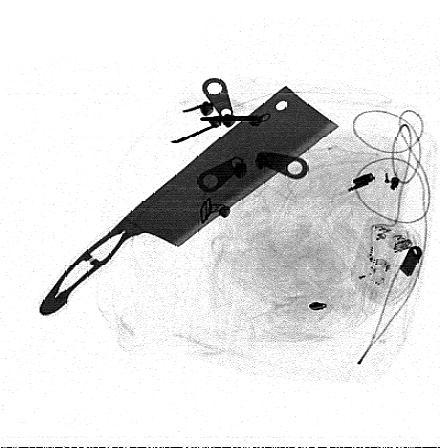Knife: (39, 84, 341, 317)
